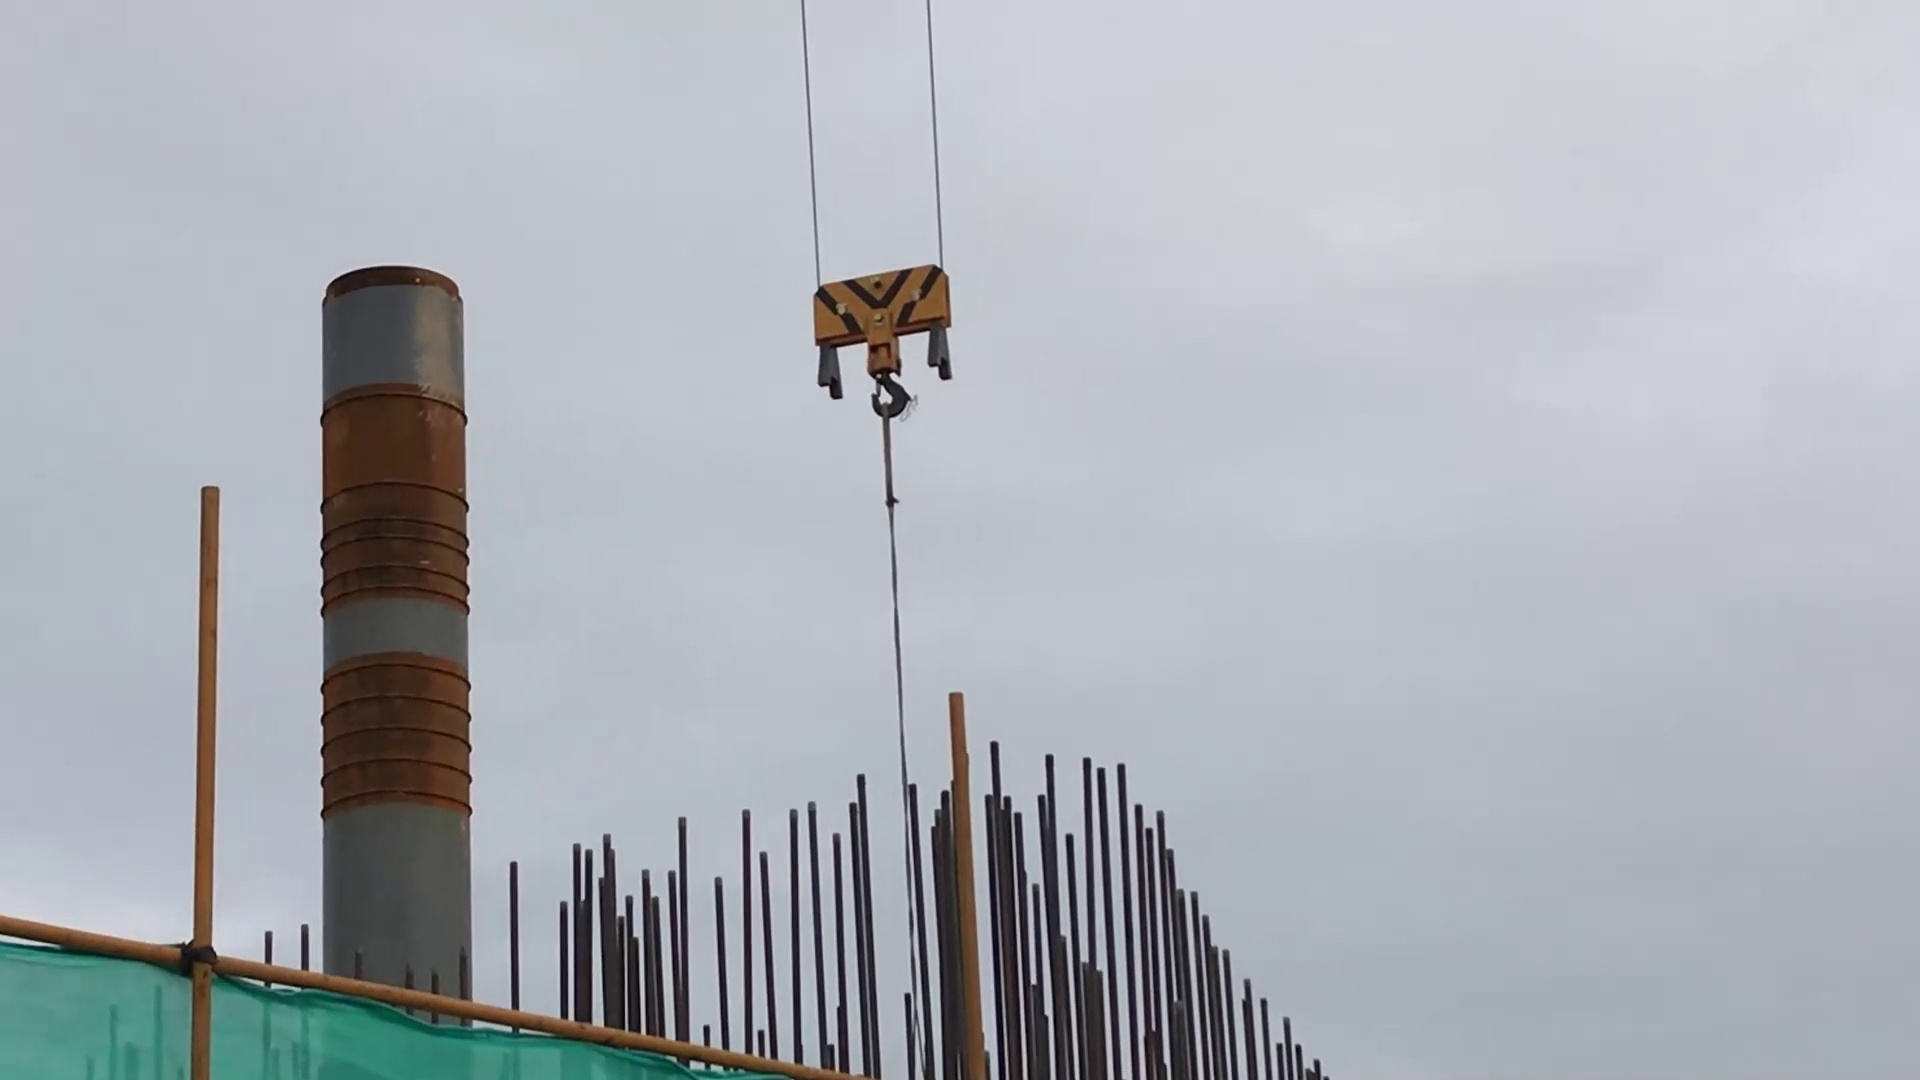hook: (790, 255, 977, 429)
